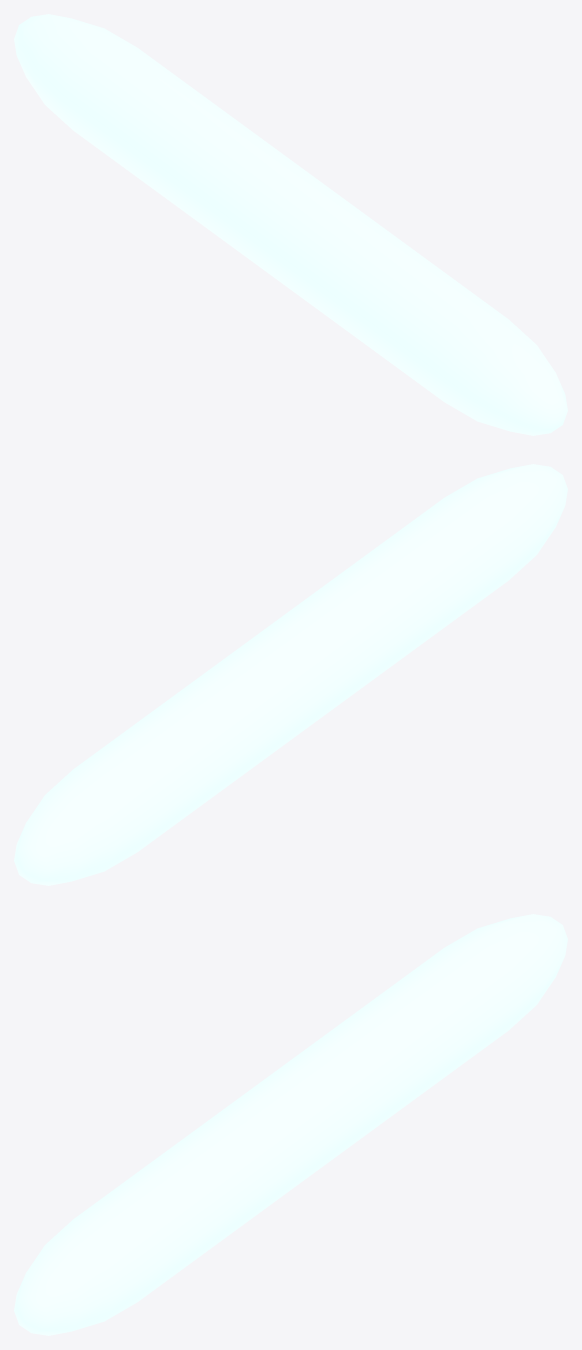
The model's file is EnemyProjectile_BlueLaser.dae.
The picture shows the model from 3 angles, top to bottom: view 1: azimuth 30°, elevation 25°; view 2: azimuth 150°, elevation 25°; view 3: azimuth 330°, elevation 25°; orthographic projection.
Visible parts, largest first — view 1: polySurface1; view 2: polySurface1; view 3: polySurface1.
Part boxes in pixels (box(x1,y1,x2,y2)): polySurface1: box(14, 14, 567, 435); polySurface1: box(14, 464, 567, 885); polySurface1: box(14, 914, 567, 1335).
Size of the model in its own units: 0.5898 by 0.5898 by 5.97.
Materials: 1 (1 with a texture image).
